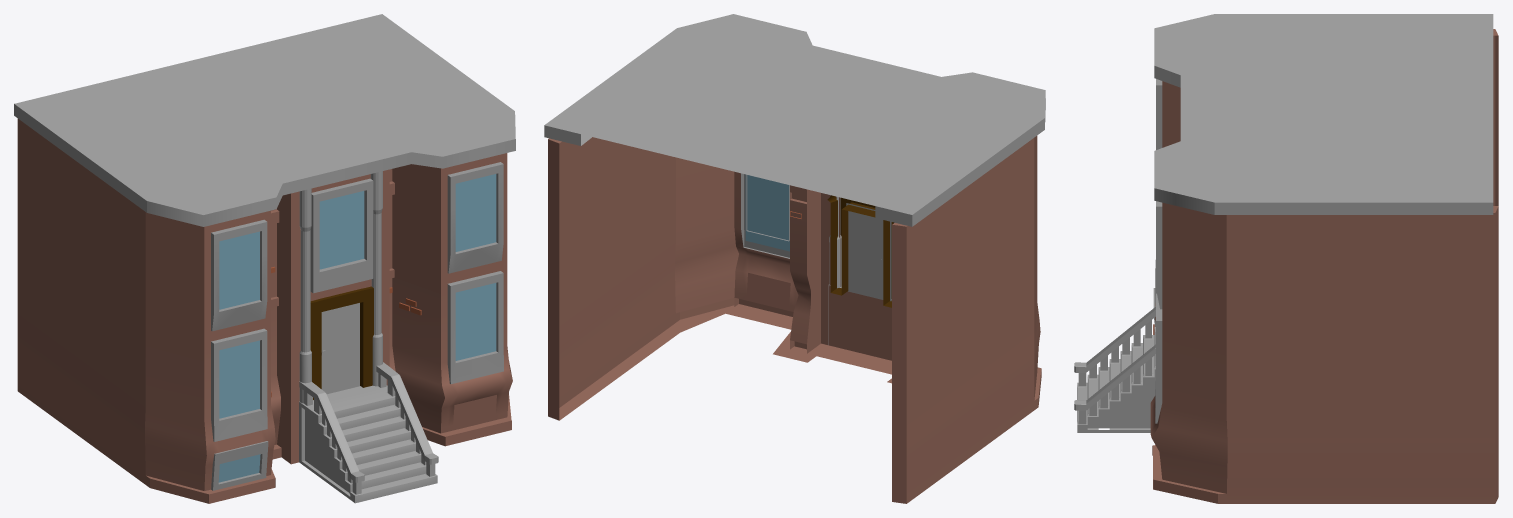
Rendered from casa grande fbx.fbx.
3 views of the same model, side by side, from view 1: azimuth 30°, elevation 25°; view 2: azimuth 150°, elevation 25°; view 3: azimuth 270°, elevation 25° (orthographic). The views are drawn at different scales.
Parts seen in each view (by area): view 1: polySurface9, pCube18, polySurface10, pPlane7, pCube17, pCylinder5, pPlane8, polySurface2; view 2: polySurface9, pCube18, pPlane8, pPlane7, polySurface2, polySurface10; view 3: polySurface9, pCube18, pCube17, polySurface10.
Boxes of the visible parts, left/top/right/bottom form: polySurface9: left=17, top=118, right=512, bottom=503; pCube18: left=14, top=14, right=515, bottom=226; polySurface10: left=211, top=162, right=503, bottom=490; pPlane7: left=218, top=174, right=496, bottom=482; pCube17: left=299, top=362, right=438, bottom=503; pCylinder5: left=299, top=171, right=382, bottom=403; pPlane8: left=321, top=303, right=359, bottom=394; polySurface2: left=310, top=286, right=373, bottom=399; polySurface9: left=548, top=136, right=1041, bottom=503; pCube18: left=544, top=14, right=1045, bottom=226; pPlane8: left=846, top=203, right=891, bottom=301; pPlane7: left=745, top=174, right=789, bottom=251; polySurface2: left=827, top=195, right=894, bottom=307; polySurface10: left=741, top=173, right=789, bottom=258; polySurface9: left=1150, top=29, right=1498, bottom=503; pCube18: left=1154, top=14, right=1493, bottom=214; pCube17: left=1074, top=307, right=1155, bottom=432; polySurface10: left=1153, top=79, right=1162, bottom=423.
Bounding box in the file's own units: 32.39 × 24.34 × 30.8.
